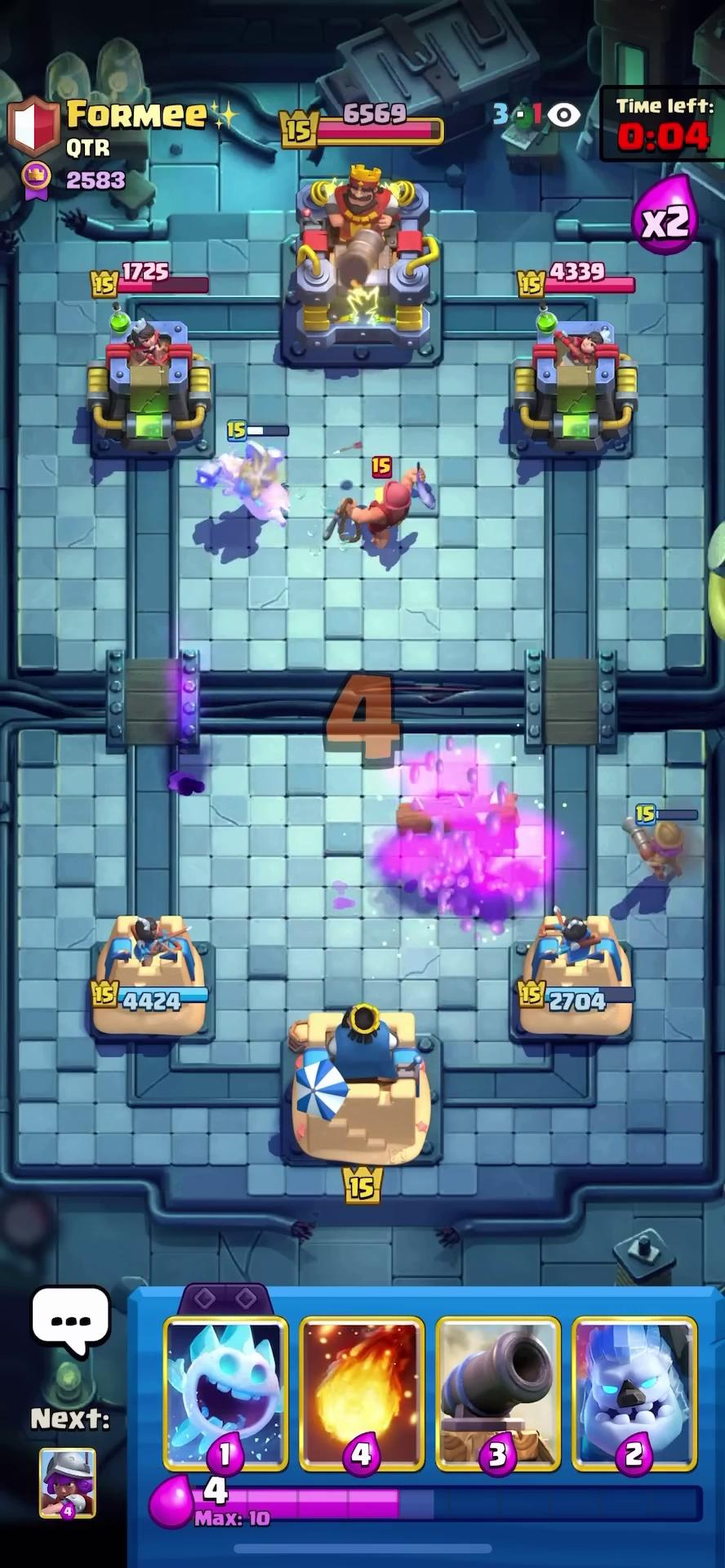hog_rider: (192, 419, 302, 535)
musketeer: (623, 800, 708, 882)
